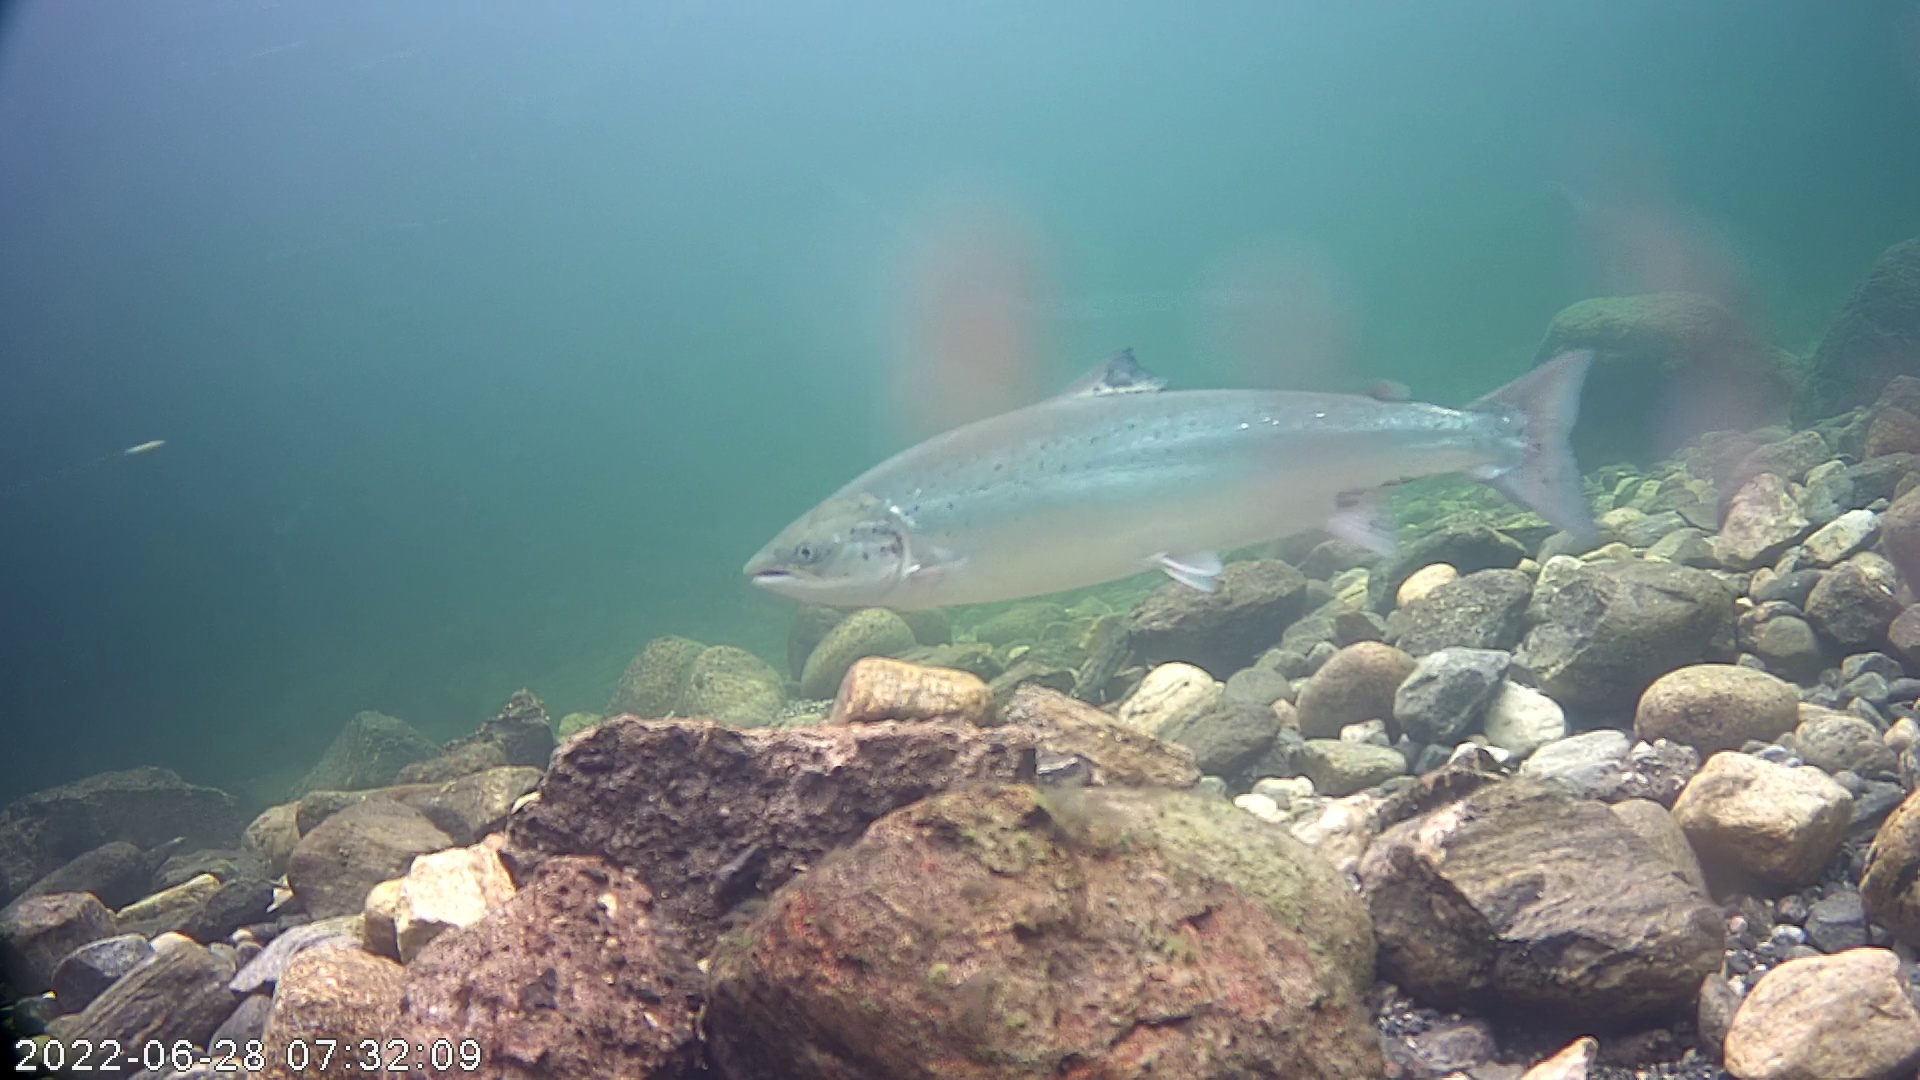salmon: (742, 243, 1627, 666)
